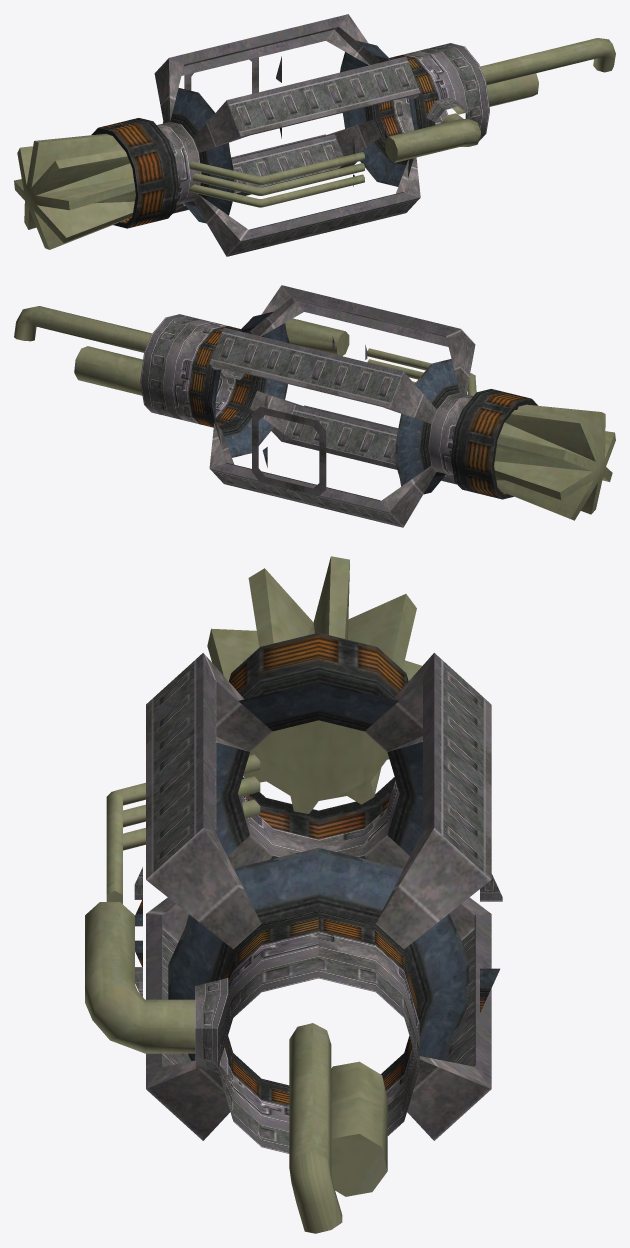
File: ship_component_engine_s02_l1.fbx
The picture shows the model from 3 angles, top to bottom: view 1: azimuth 30°, elevation 25°; view 2: azimuth 150°, elevation 25°; view 3: azimuth 270°, elevation 25°; orthographic projection. The views are drawn at different scales.
Visible parts, largest first — view 1: mesh_node; view 2: mesh_node; view 3: mesh_node.
Boxes of the visible parts, x1,y1,x2,y2 form: mesh_node: (14, 14, 615, 256); mesh_node: (14, 285, 615, 527); mesh_node: (85, 556, 502, 1233).
Size of the model in its own units: 3.57 by 0.9777 by 1.29.
Materials: 2 (2 with a texture image).
